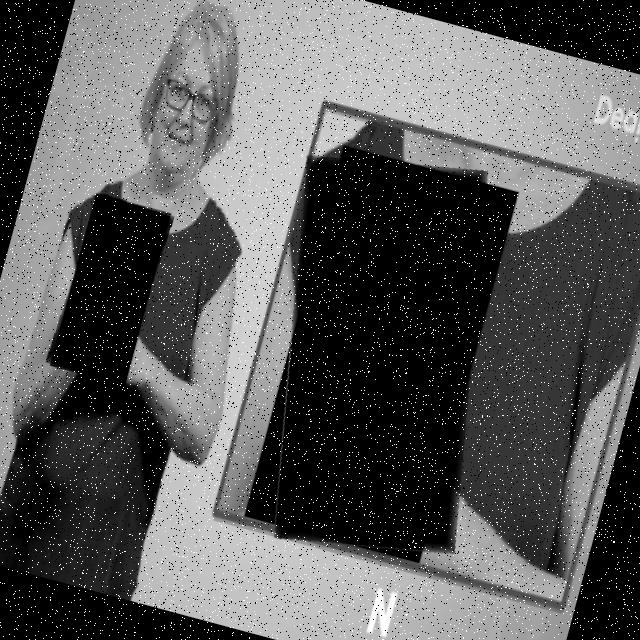N: (227, 136, 537, 575), (48, 192, 174, 388)
